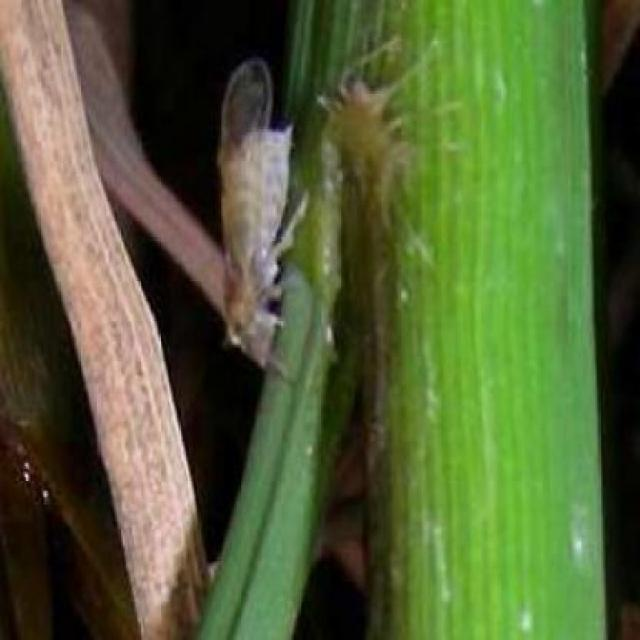brown-planthopper: (221, 54, 297, 360)
